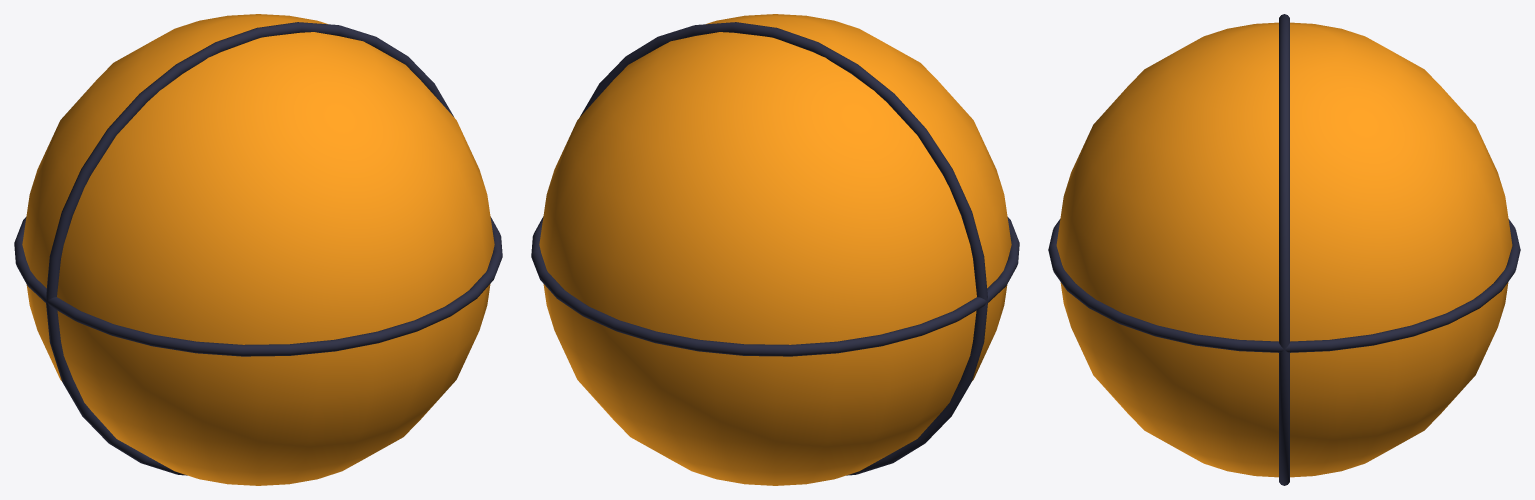
Rendered from basketball.glb.
3 views of the same model, side by side, from view 1: azimuth 30°, elevation 25°; view 2: azimuth 150°, elevation 25°; view 3: azimuth 270°, elevation 25° (orthographic). The views are drawn at different scales.
Visible parts, largest first — view 1: basketball; view 2: basketball; view 3: basketball.
Part boxes in pixels (x1,y1,x2,y2): basketball: (14, 14, 502, 485); basketball: (531, 14, 1019, 485); basketball: (1048, 14, 1520, 485).
Size of the model in its own units: 0.248 by 0.248 by 0.248.
